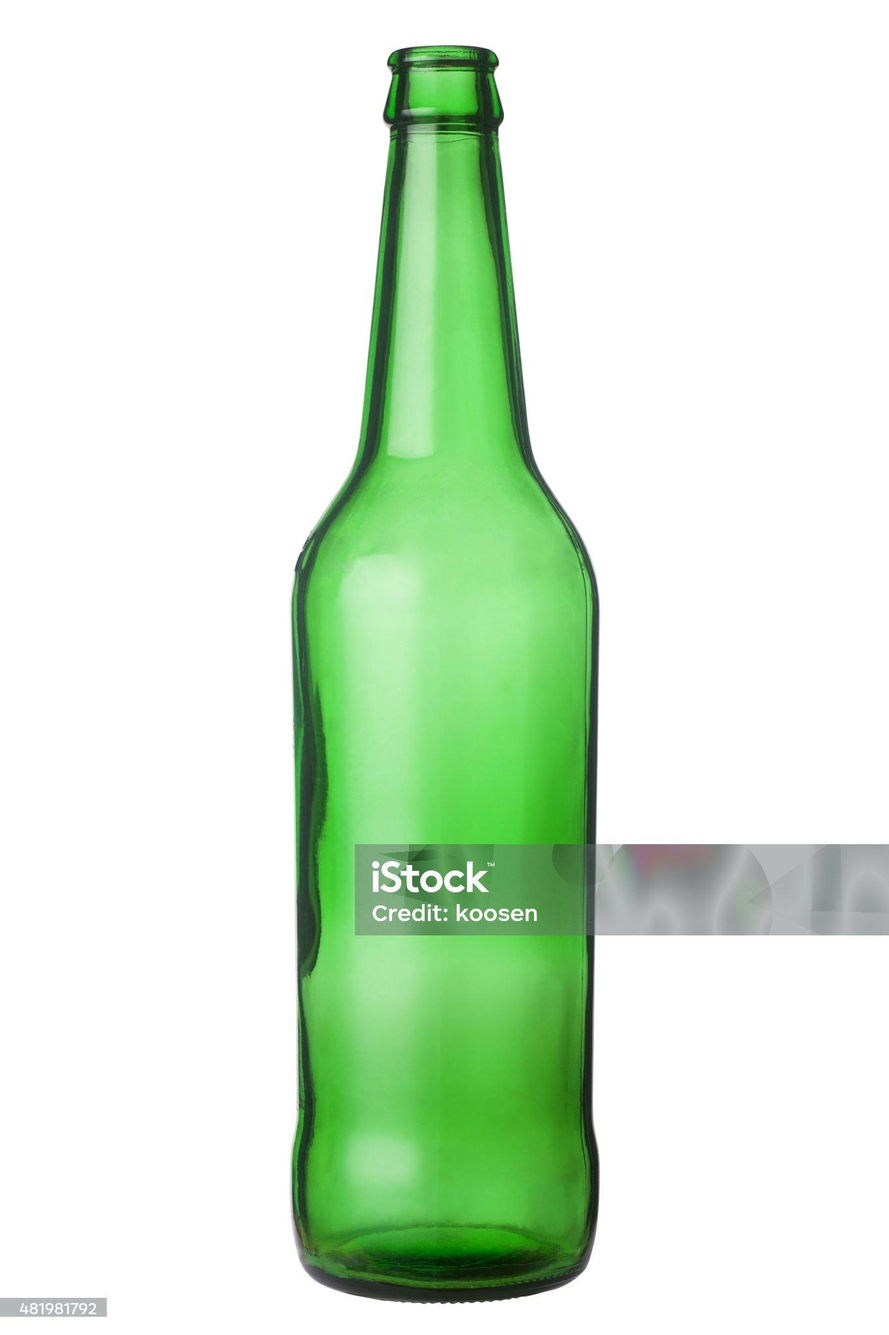glass: (186, 14, 693, 1297)
